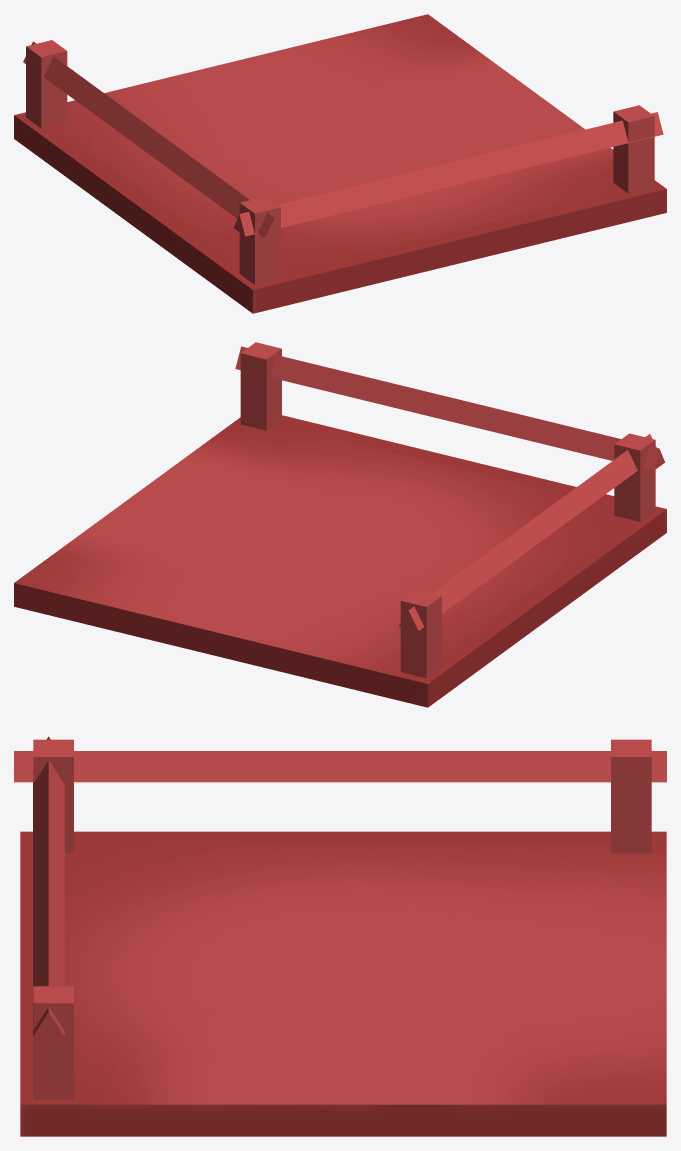
File: Plataforma 3.fbx
3 views of the same model, one above another, from view 1: azimuth 30°, elevation 25°; view 2: azimuth 150°, elevation 25°; view 3: azimuth 270°, elevation 25° (orthographic). The views are drawn at different scales.
Parts seen in each view (by area): view 1: Cylinder.012; view 2: Cylinder.012; view 3: Cylinder.012.
Boxes of the visible parts, left/top/right/bottom form: Cylinder.012: left=14, top=14, right=666, bottom=313; Cylinder.012: left=14, top=342, right=666, bottom=707; Cylinder.012: left=14, top=736, right=666, bottom=1136.
Bounding box in the file's own units: 595 × 129 × 595.
